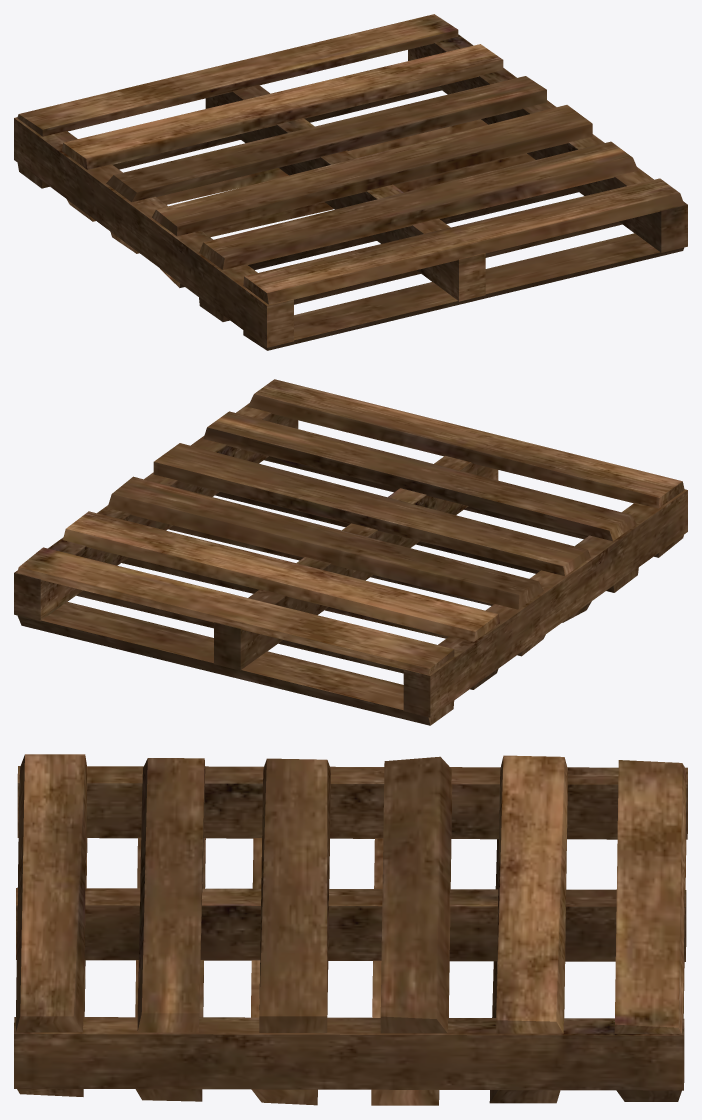
The model's file is pallet-wood.glb.
3 renders of one model, top to bottom at view 1: azimuth 30°, elevation 25°; view 2: azimuth 150°, elevation 25°; view 3: azimuth 270°, elevation 25°, orthographic. The views are drawn at different scales.
Bounding box in the file's own units: 0.936 × 0.144 × 0.9884.
Materials: 1 (1 with a texture image).
